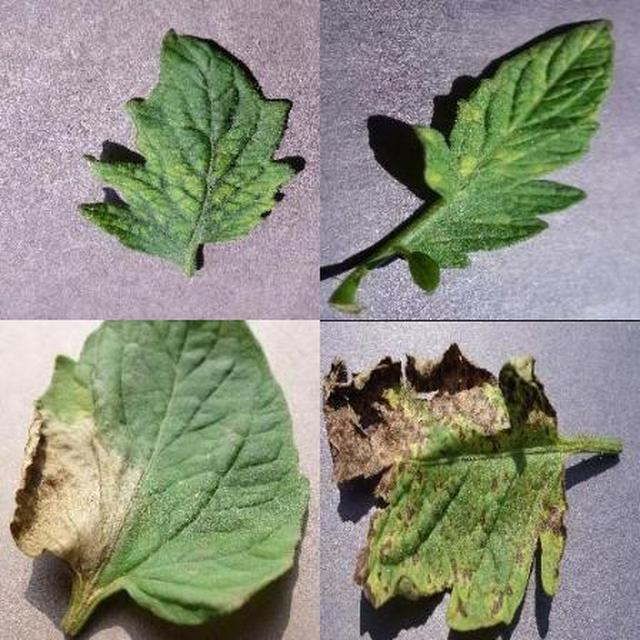Mosaic Virus Leaf: (231, 205, 640, 640)
